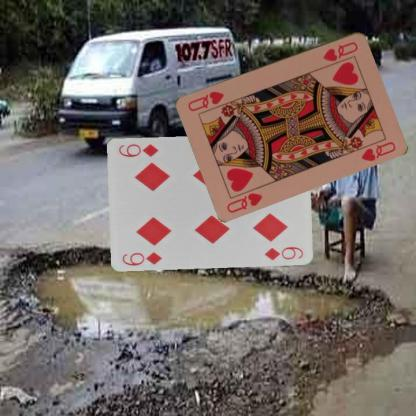6d: (120, 249, 163, 266)
Qh: (223, 189, 264, 214), (320, 39, 360, 62)
